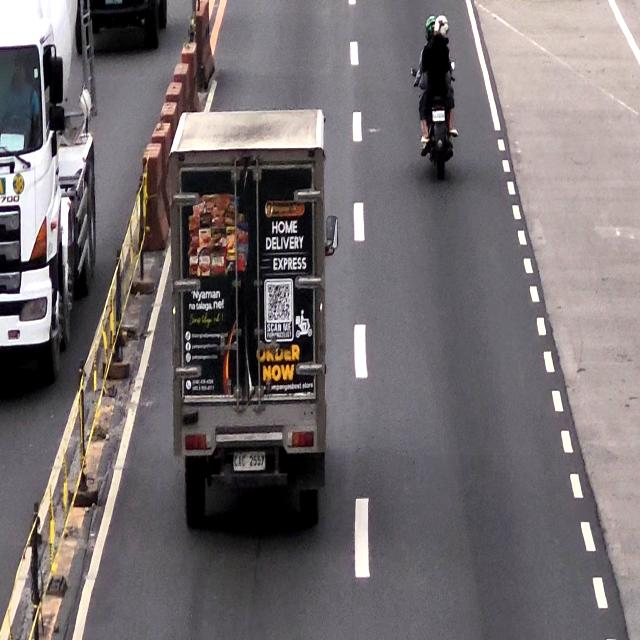License-Plate: (232, 453, 266, 472)
Motorcycle: (419, 17, 458, 173)
Truck: (170, 108, 320, 532)
